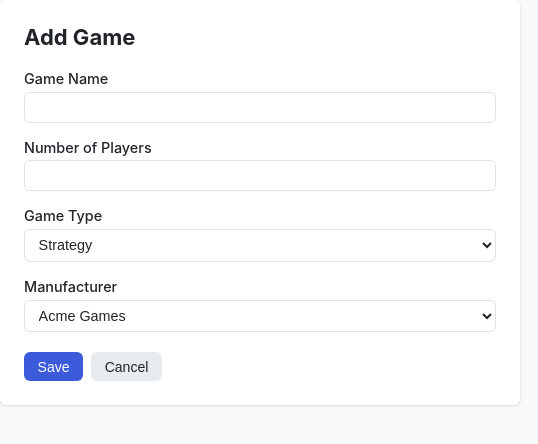
Scenario: GameForm › shows error when num_players is 0
In the field labelled "Game Name": (260, 107) top-left (24, 92), bottom-right (496, 123), type "My Game"
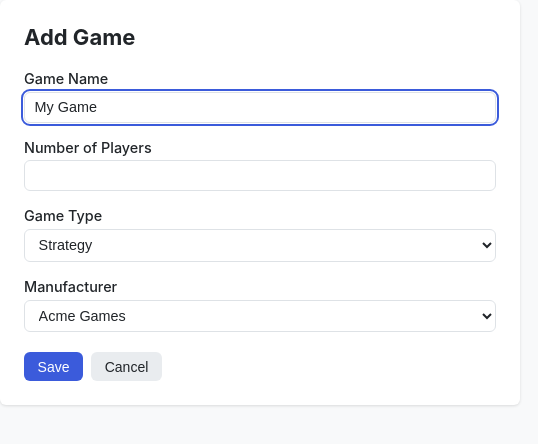
In the number field labelled "Number of Players": (260, 176) top-left (24, 160), bottom-right (496, 191), type "0"
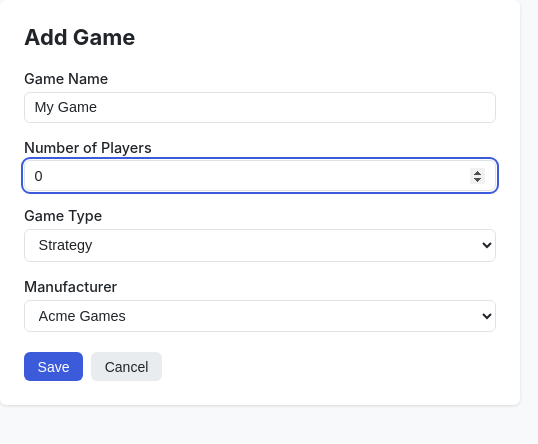
Click the button "Save": click(54, 367) top-left (24, 352), bottom-right (83, 381)
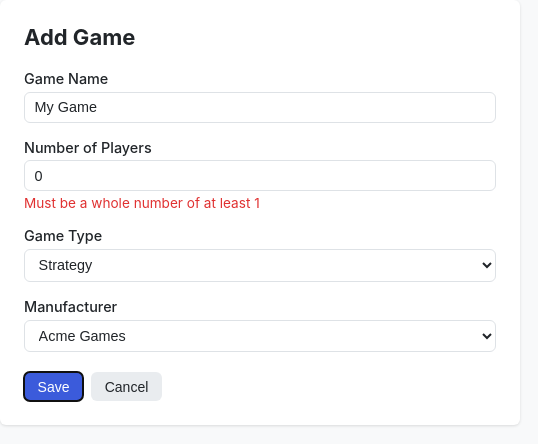
Expected: the text "Must be a whole number of at least 1" is shown, top-left (24, 195), bottom-right (260, 211)
